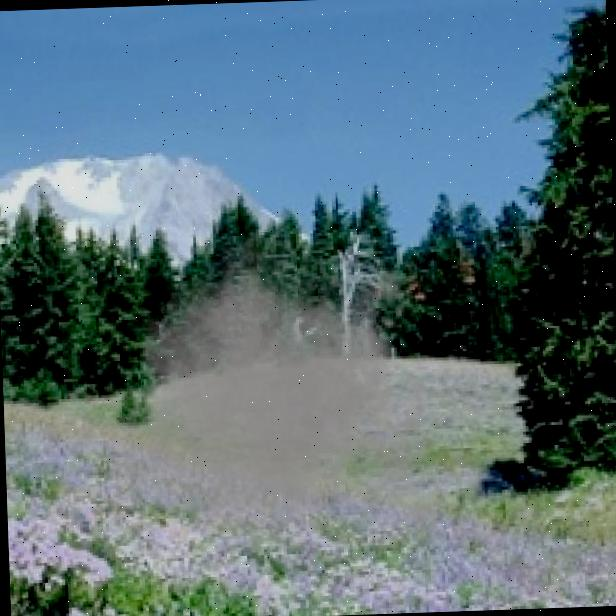smoke: (98, 205, 456, 603)
